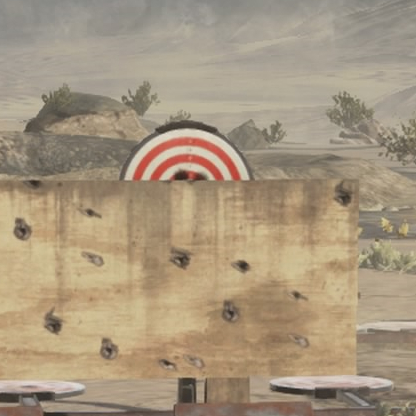target: (122, 124, 252, 181)
